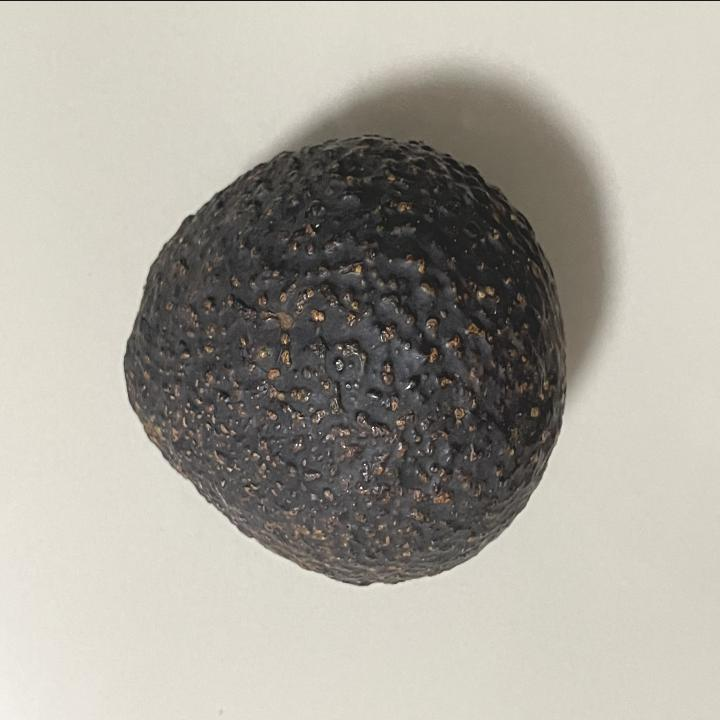Level2: (111, 122, 573, 592)
